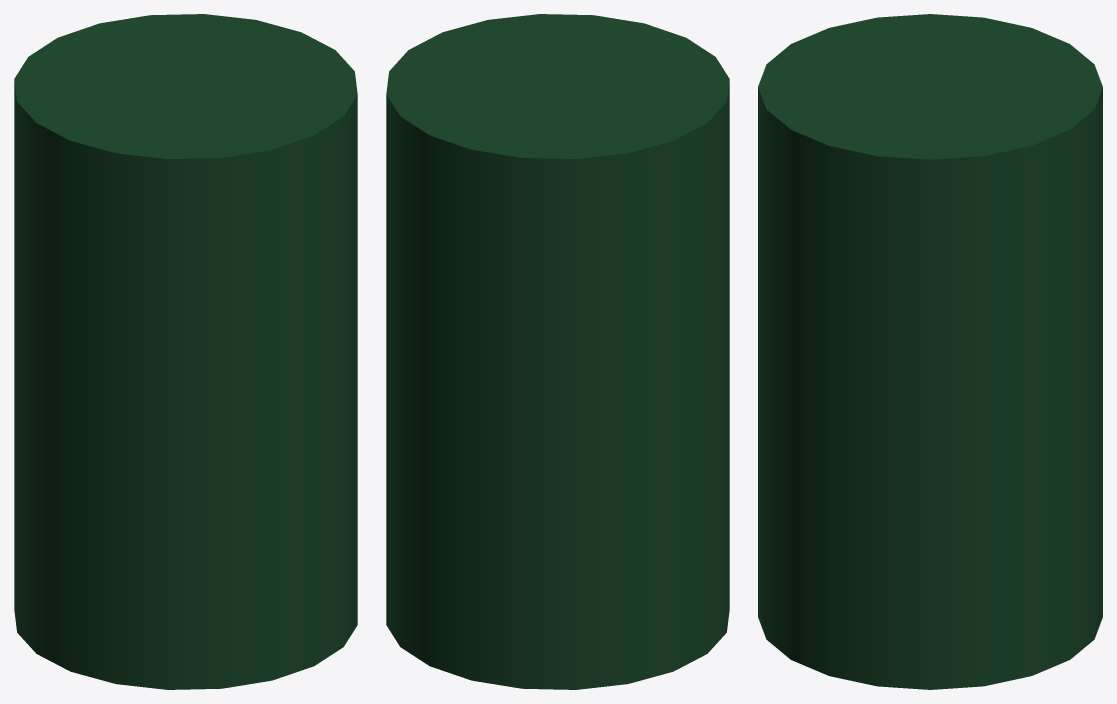
File: maki_roll.glb
3 renders of one model, left to right at view 1: azimuth 30°, elevation 25°; view 2: azimuth 150°, elevation 25°; view 3: azimuth 270°, elevation 25°, orthographic.
Parts seen in each view (by area): view 1: nori; view 2: nori; view 3: nori.
Boxes of the visible parts, x1,y1,x2,y2 form: nori: (14,14,357,689); nori: (386,14,729,689); nori: (758,14,1102,689).
Bounding box in the file's own units: 0.56 × 0.95 × 0.56.
